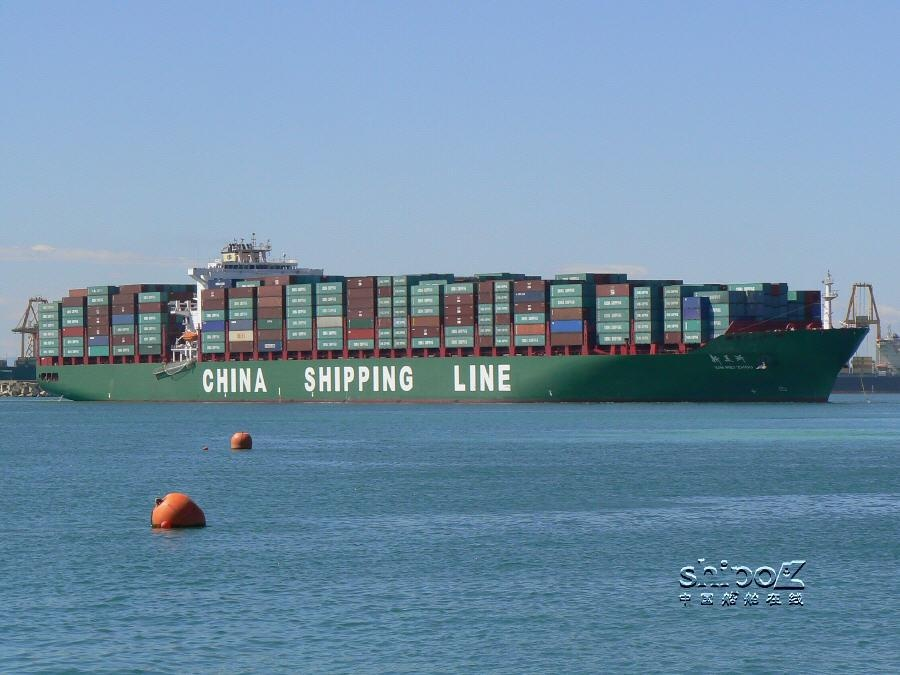Cargoship: (22, 233, 871, 411)
